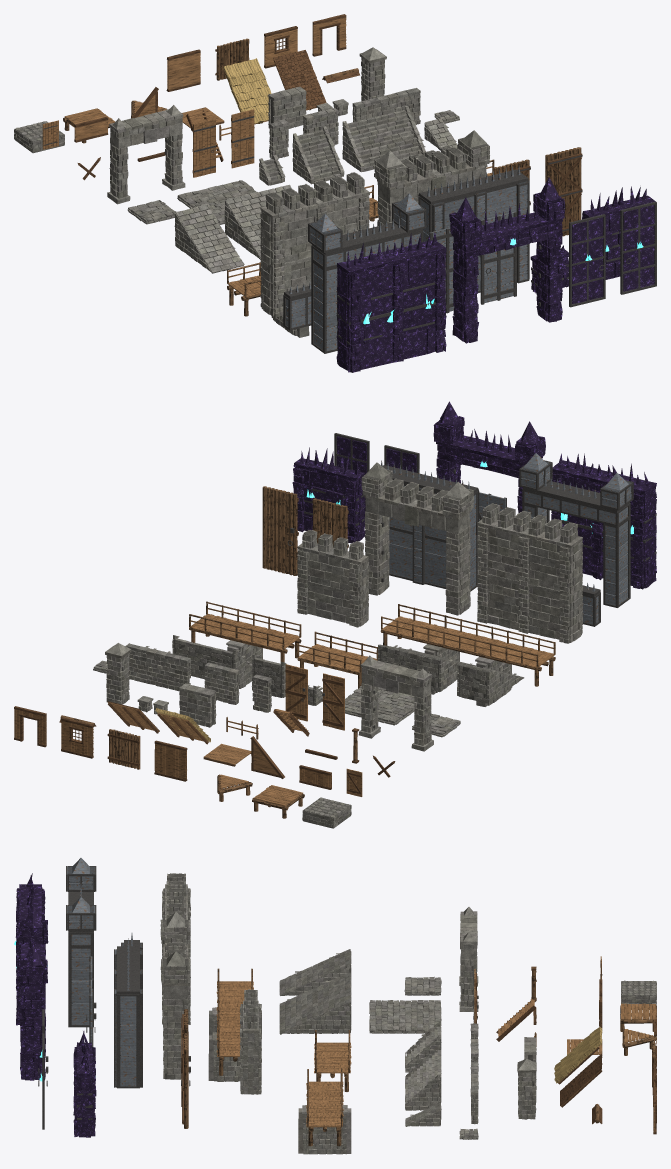
File: kit_construcao.glb
3 renders of one model, top to bottom at view 1: azimuth 30°, elevation 25°; view 2: azimuth 150°, elevation 25°; view 3: azimuth 270°, elevation 25°, orthographic. The views are drawn at different scales.
Visible parts, largest first — view 1: muro_obsidiana_gigante_obsidiana, portal_obsidiana_gigante_obsidiana, muro_pedra_gigante_pedra, portal_pedra_gigante_pedra, portal_metal_gigante_metal, portal_pedra_pedra, escada_pedra_g_pedra, portal_metal_gigante_ferro, rampa_pedra_m_pedra, muro_metal_gigante_metal, muro_metal_gigante_ferro, portao_obsidiana_gigante_dir_obsidiana (+33 smaller); view 2: muro_pedra_gigante_pedra, portal_pedra_gigante_pedra, muro_pedra_grande_pedra, muro_obsidiana_gigante_obsidiana, portal_obsidiana_gigante_obsidiana, portal_metal_gigante_metal, muro_obsidiana_grande_obsidiana, portal_pedra_pedra, muro_metal_gigante_metal, portal_metal_gigante_ferro, ponte_g_madeira, portao_pedra_gigante_dir_tronco (+27 smaller); view 3: portal_obsidiana_gigante_obsidiana, portal_pedra_gigante_pedra, rampa_pedra_g_pedra, portal_metal_gigante_metal, muro_metal_gigante_ferro, piso_pedra_g_pedra, muro_pedra_grande_pedra, muro_obsidiana_grande_obsidiana, muro_metal_gigante_metal, ponte_g_madeira, escada_pedra_g_pedra, portal_metal_gigante_ferro (+19 smaller).
Part boxes in pixels (left/top/right/bottom): muro_obsidiana_gigante_obsidiana: left=336, top=232, right=446, bottom=372; portal_obsidiana_gigante_obsidiana: left=449, top=177, right=565, bottom=343; muro_pedra_gigante_pedra: left=260, top=172, right=369, bottom=317; portal_pedra_gigante_pedra: left=374, top=130, right=489, bottom=226; portal_metal_gigante_metal: left=310, top=193, right=424, bottom=350; portal_pedra_pedra: left=107, top=105, right=185, bottom=204; escada_pedra_g_pedra: left=342, top=106, right=425, bottom=172; portal_metal_gigante_ferro: left=308, top=201, right=426, bottom=353; rampa_pedra_m_pedra: left=174, top=204, right=244, bottom=273; muro_metal_gigante_metal: left=421, top=165, right=527, bottom=290; muro_metal_gigante_ferro: left=418, top=169, right=529, bottom=292; portao_obsidiana_gigante_dir_obsidiana: left=623, top=205, right=654, bottom=291; muro_pedra_gigante_pedra: left=477, top=503, right=582, bottom=643; portal_pedra_gigante_pedra: left=361, top=462, right=473, bottom=615; muro_pedra_grande_pedra: left=297, top=530, right=369, bottom=627; muro_obsidiana_gigante_obsidiana: left=551, top=453, right=656, bottom=589; portal_obsidiana_gigante_obsidiana: left=433, top=401, right=545, bottom=512; portal_metal_gigante_metal: left=521, top=453, right=631, bottom=605; muro_obsidiana_grande_obsidiana: left=292, top=447, right=365, bottom=543; portal_pedra_pedra: left=358, top=655, right=433, bottom=751; muro_metal_gigante_metal: left=381, top=460, right=476, bottom=588; portal_metal_gigante_ferro: left=519, top=460, right=633, bottom=607; ponte_g_madeira: left=381, top=610, right=554, bottom=668; portao_pedra_gigante_dir_tronco: left=262, top=486, right=297, bottom=575; portal_obsidiana_gigante_obsidiana: left=17, top=905, right=48, bottom=1080; portal_pedra_gigante_pedra: left=160, top=911, right=190, bottom=1079; rampa_pedra_g_pedra: left=279, top=972, right=351, bottom=1034; portal_metal_gigante_metal: left=67, top=858, right=94, bottom=1024; muro_metal_gigante_ferro: left=114, top=946, right=142, bottom=1088; piso_pedra_g_pedra: left=369, top=1000, right=441, bottom=1033; muro_pedra_grande_pedra: left=240, top=989, right=261, bottom=1094; muro_obsidiana_grande_obsidiana: left=73, top=1031, right=96, bottom=1137; muro_metal_gigante_metal: left=115, top=938, right=141, bottom=1086; ponte_g_madeira: left=216, top=981, right=253, bottom=1056; escada_pedra_g_pedra: left=405, top=1045, right=441, bottom=1110; portal_metal_gigante_ferro: left=66, top=866, right=96, bottom=1027.
Size of the model in its own units: 31.98 by 16.96 by 54.44.
Materials: 9 (9 with a texture image).
